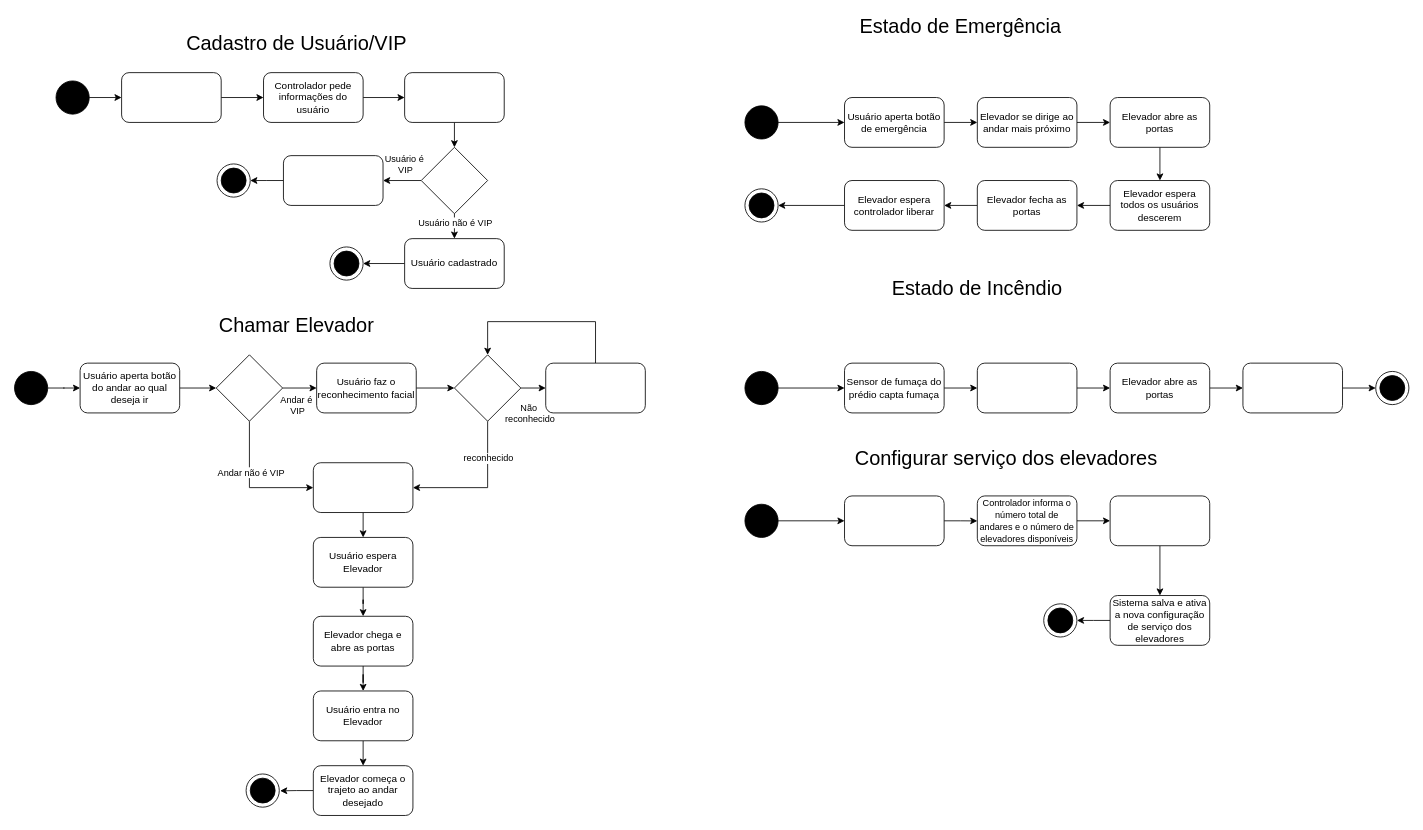
The diagram is 1423 pixels wide and 830 high, and some of its shapes have lost their labels. The box of each missing label's shape, as (x1, y1, x2, y2) in pixels:
Botoeira informa qual é o elevador do usuário: (312, 462, 413, 513)
Controlador acessa o painel de configuração do sistema de elevadores: (844, 495, 944, 546)
Controlador acessa o sistema: (121, 72, 221, 122)
Controlador insere informações do usuário: (404, 72, 504, 122)
Elevador se dirige ao térreo: (976, 362, 1077, 413)
Sistema bloqueia o uso dos Elevadores até o incêndio terminar: (1242, 362, 1343, 413)
Sistema calcula distribuição dos andares: (1109, 495, 1210, 546)
Usuário cadastrado como VIP: (283, 155, 383, 205)
Usuário refaz reconhecimento facial: (545, 362, 645, 413)
